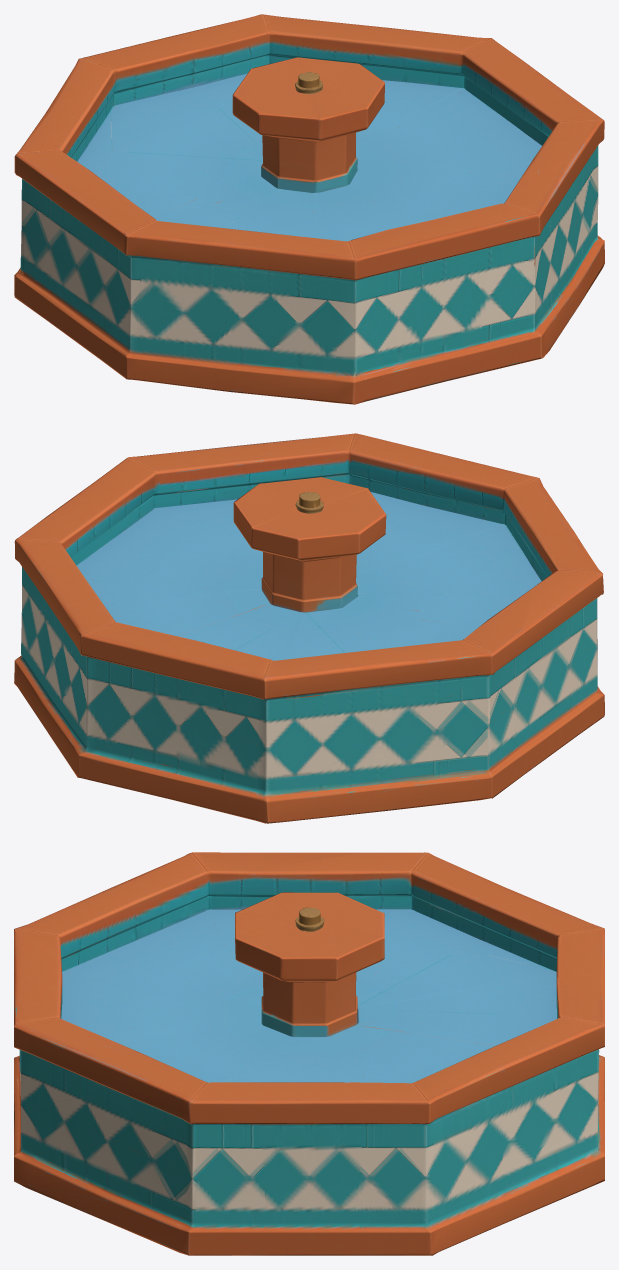
The model's file is ornament_accent.glb.
The picture shows the model from 3 angles, top to bottom: view 1: azimuth 30°, elevation 25°; view 2: azimuth 150°, elevation 25°; view 3: azimuth 270°, elevation 25°; orthographic projection. The views are drawn at different scales.
Size of the model in its own units: 1 by 0.4111 by 1.
1 material, 1 textured.
